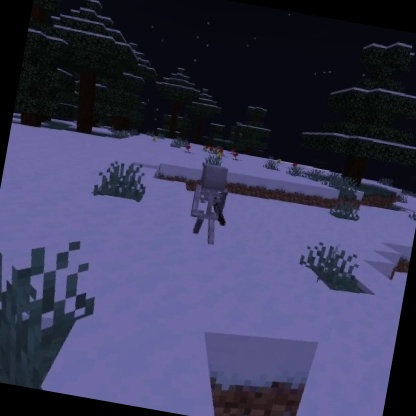skeleton: (183, 159, 238, 249)
